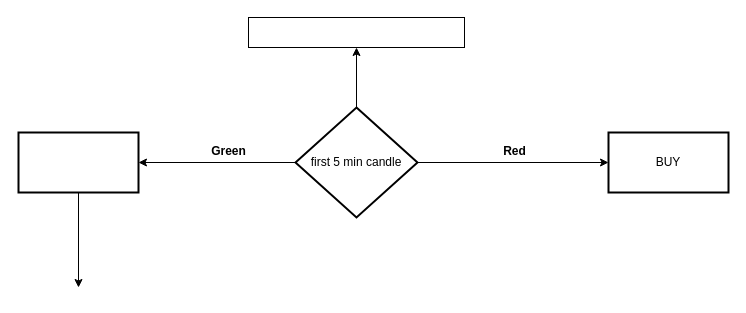
This 746x313 diagram has some shape labels left out. Here are the shapes that lost their labels. From the top down, the centre of each, then its label:
the point at 356,32: Start
the point at 78,162: SELL
